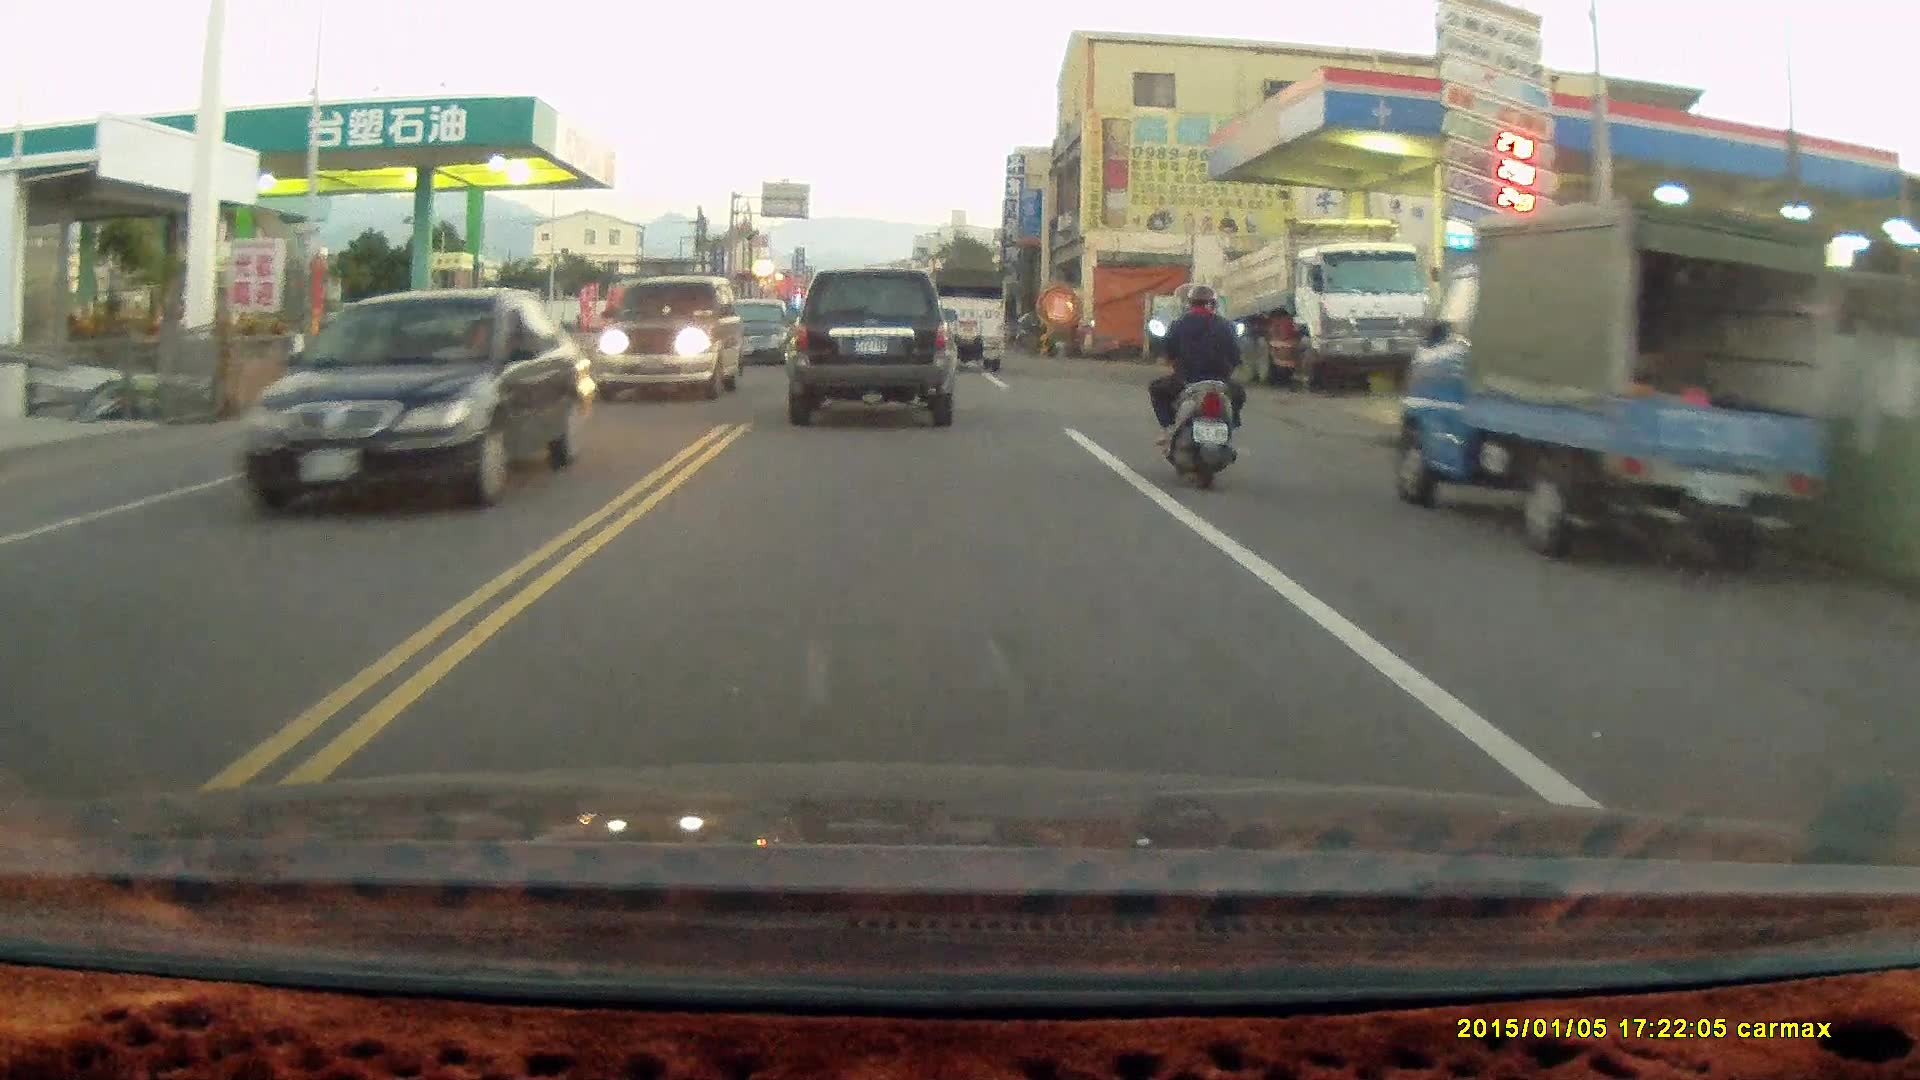rider: (1145, 283, 1249, 492)
vehicle: (1397, 194, 1855, 564), (225, 286, 586, 515), (1203, 203, 1429, 382), (789, 263, 956, 419), (603, 268, 747, 396), (917, 258, 1010, 369), (712, 299, 806, 369)
